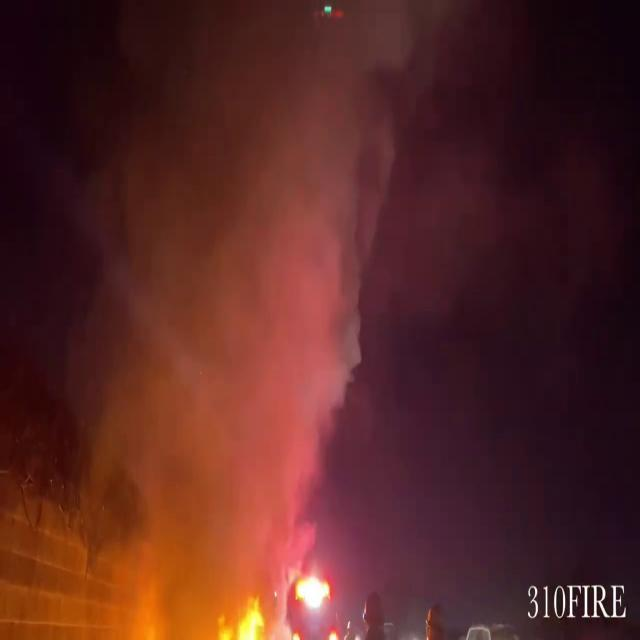Smoke: (21, 2, 491, 604)
